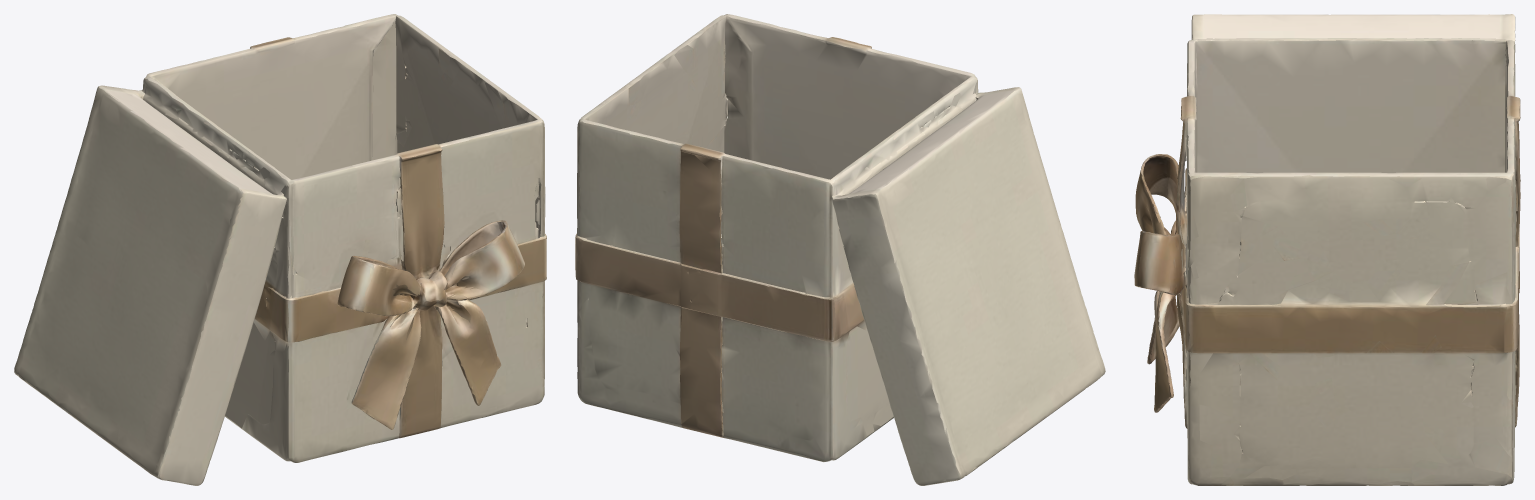
File: gift-box.glb
3 renders of one model, left to right at view 1: azimuth 30°, elevation 25°; view 2: azimuth 150°, elevation 25°; view 3: azimuth 270°, elevation 25°, orthographic. The views are drawn at different scales.
Visible parts, largest first — view 1: geometry_0; view 2: geometry_0; view 3: geometry_0.
Boxes of the visible parts, <box> form: geometry_0: <box>14,14,546,485</box>; geometry_0: <box>575,14,1105,485</box>; geometry_0: <box>1134,14,1520,485</box>.
Bounding box in the file's own units: 0.25 × 0.175 × 0.1946.
1 material, 1 textured.
